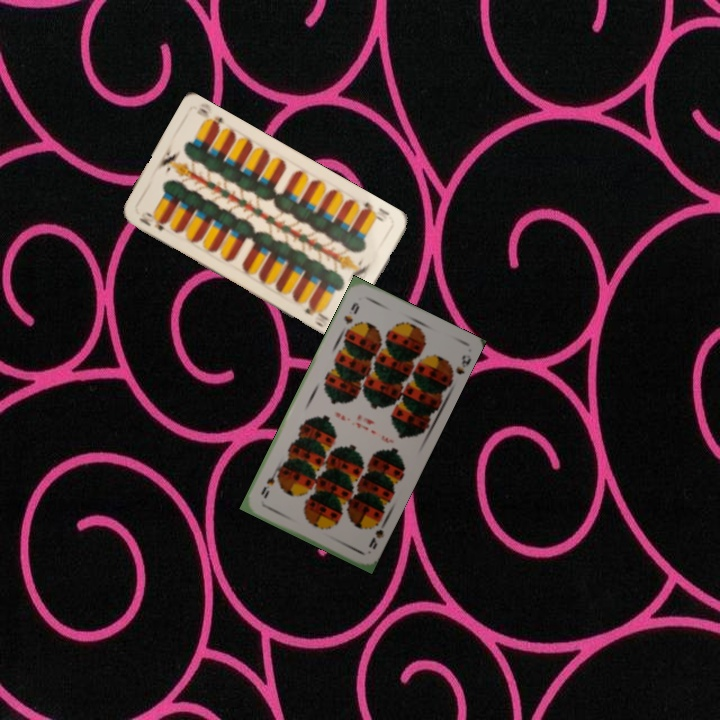E10: (135, 208, 168, 234), (357, 198, 386, 224)
S9: (365, 516, 389, 552), (340, 298, 362, 327)
